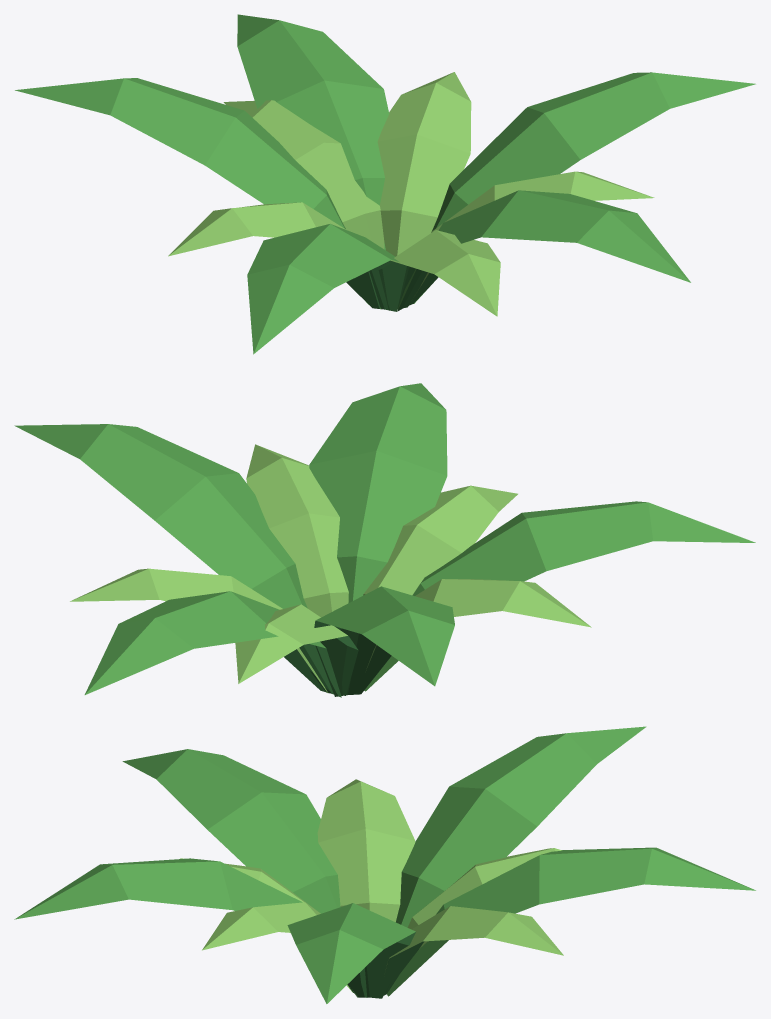
Rendered from fern.glb.
The picture shows the model from 3 angles, top to bottom: view 1: azimuth 30°, elevation 25°; view 2: azimuth 150°, elevation 25°; view 3: azimuth 270°, elevation 25°; orthographic projection. The views are drawn at different scales.
Visible parts, largest first — view 1: fern; view 2: fern; view 3: fern.
Boxes of the visible parts, x1,y1,x2,y2 form: fern: (15, 14, 755, 354); fern: (14, 383, 755, 697); fern: (14, 726, 755, 1003).
Bounding box in the file's own units: 1.32 × 0.3926 × 1.46.
